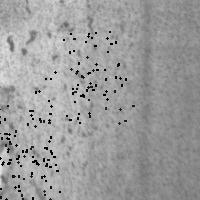pitted_surface: (19, 1, 185, 179), (1, 19, 81, 199), (74, 62, 132, 122), (63, 31, 117, 91), (0, 146, 59, 200), (0, 105, 53, 165), (29, 71, 89, 122), (0, 137, 48, 194)
